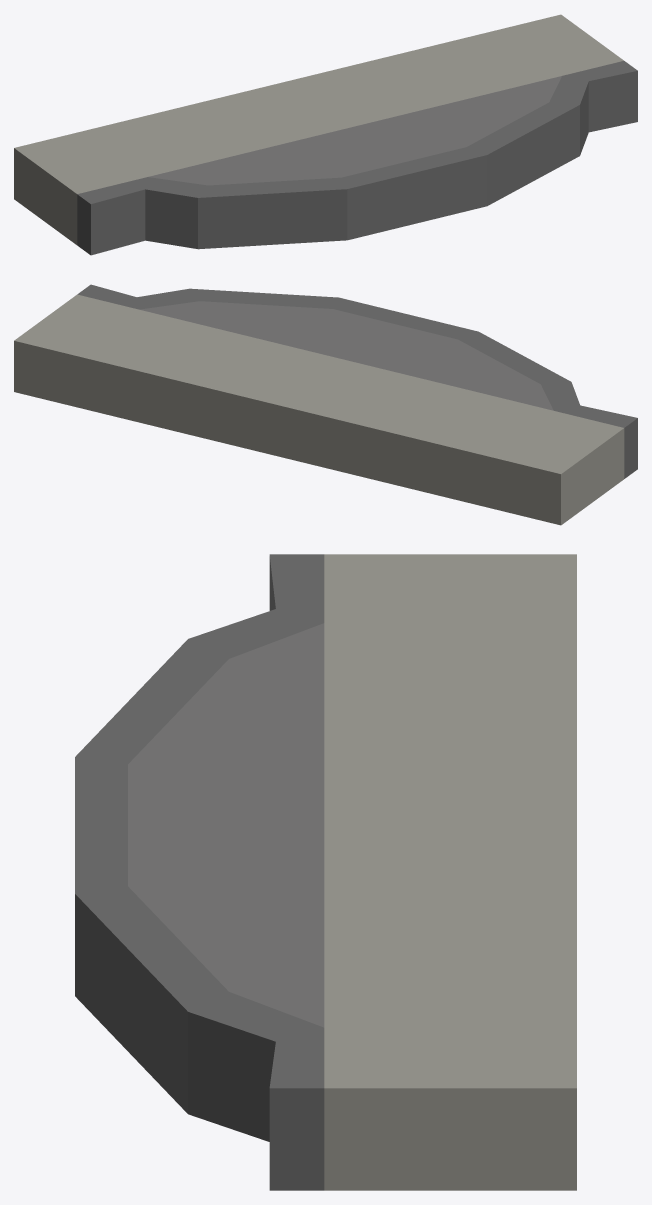
The model's file is B02_intersection_etage_7.fbx.
3 renders of one model, top to bottom at view 1: azimuth 30°, elevation 25°; view 2: azimuth 150°, elevation 25°; view 3: azimuth 270°, elevation 25°, orthographic. The views are drawn at different scales.
Visible parts, largest first — view 1: B02_intersection_etage_7; view 2: B02_intersection_etage_7; view 3: B02_intersection_etage_7.
Boxes of the visible parts, <box> form: B02_intersection_etage_7: <box>14,14,637,255</box>; B02_intersection_etage_7: <box>14,284,637,525</box>; B02_intersection_etage_7: <box>75,554,576,1190</box>.
Bounding box in the file's own units: 500 × 44.77 × 199.
